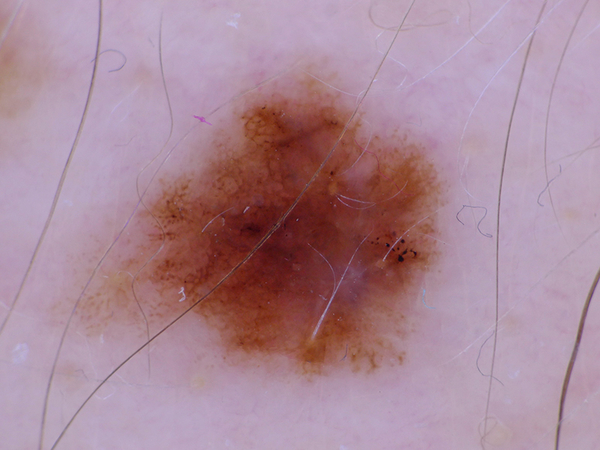Detected Lesion: (135, 80, 453, 382)
